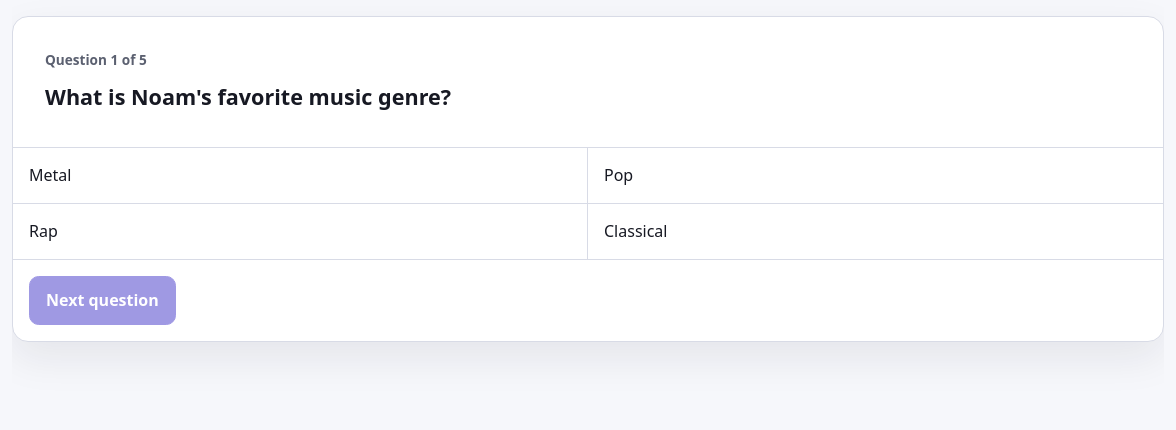
Test case: Quiz › identifies correct and incorrect answers without relying on color
Click the button "Pop": (619, 175) [588,148,1163,204]
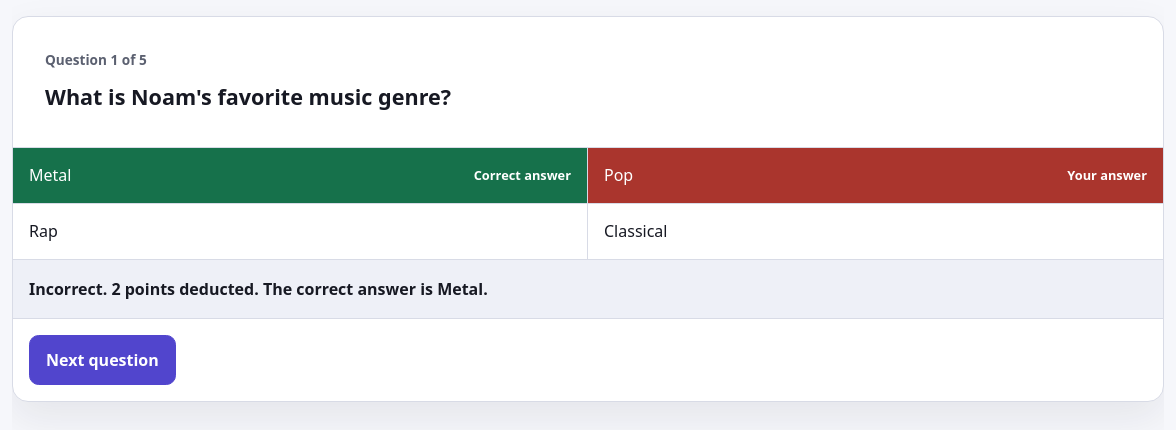
Expected: the message reads "Incorrect. 2 points deducted. The correct answer is Metal.", [13,260,1163,319]
Expected: the button "Pop Your answer" is disabled, [588,148,1163,204]
Expected: the button "Metal Correct answer" is disabled, [13,148,588,204]
